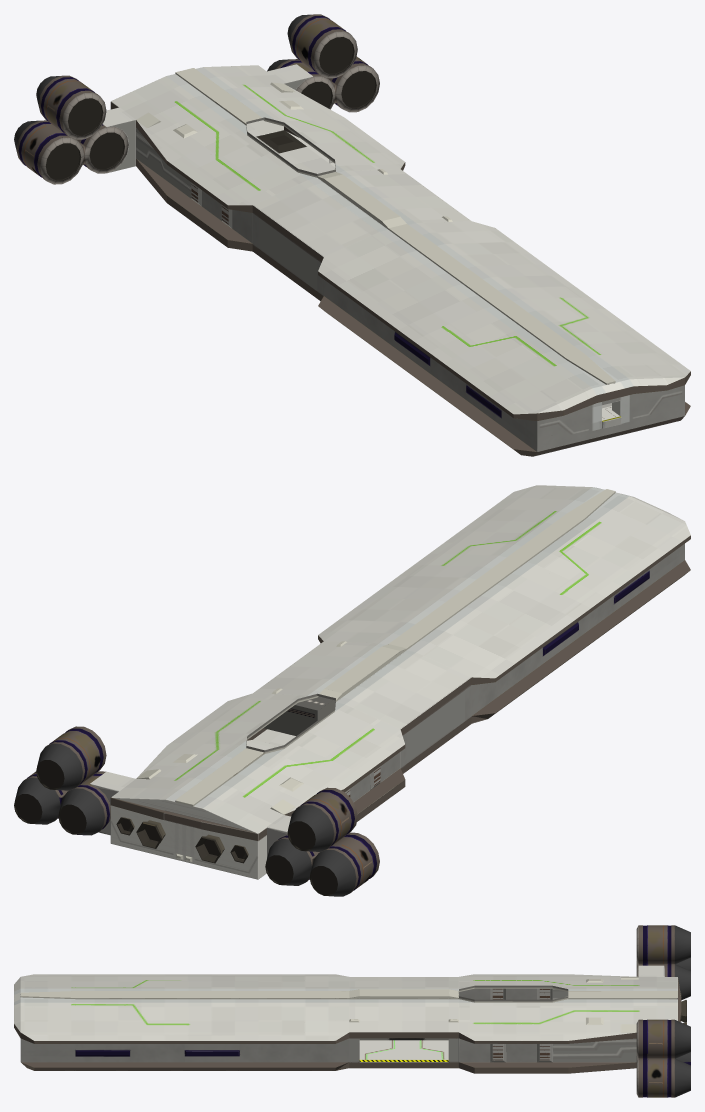
Rendered from SSCCapitalship1_Destruct.fbx.
3 views of the same model, one above another, from view 1: azimuth 30°, elevation 25°; view 2: azimuth 150°, elevation 25°; view 3: azimuth 270°, elevation 25° (orthographic). The views are drawn at different scales.
Visible parts, largest first — view 1: SSCCapitalship1_Front_Frag, SSCCapitalship1_Rear_Frag, SSCCapitalship1_Hanger_Frag, SSCCapitalship1_EngL_Frag, SSCCapitalship1_EngRB_Frag, SSCCapitalship1_EngRT_Frag; view 2: SSCCapitalship1_Front_Frag, SSCCapitalship1_Rear_Frag, SSCCapitalship1_Hanger_Frag, SSCCapitalship1_EngL_Frag, SSCCapitalship1_EngRB_Frag, SSCCapitalship1_EngRT_Frag; view 3: SSCCapitalship1_Front_Frag, SSCCapitalship1_Rear_Frag, SSCCapitalship1_Hanger_Frag, SSCCapitalship1_EngL_Frag, SSCCapitalship1_EngRT_Frag, SSCCapitalship1_EngRB_Frag.
Boxes of the visible parts, x1,y1,x2,y2 form: SSCCapitalship1_Front_Frag: [318, 221, 690, 456]; SSCCapitalship1_Rear_Frag: [103, 64, 405, 251]; SSCCapitalship1_Hanger_Frag: [252, 169, 471, 301]; SSCCapitalship1_EngL_Frag: [267, 14, 379, 112]; SSCCapitalship1_EngRB_Frag: [14, 120, 128, 184]; SSCCapitalship1_EngRT_Frag: [36, 75, 106, 139]; SSCCapitalship1_Front_Frag: [318, 485, 690, 723]; SSCCapitalship1_Rear_Frag: [90, 693, 405, 879]; SSCCapitalship1_Hanger_Frag: [252, 641, 471, 773]; SSCCapitalship1_EngL_Frag: [14, 726, 110, 835]; SSCCapitalship1_EngRB_Frag: [265, 832, 379, 896]; SSCCapitalship1_EngRT_Frag: [287, 787, 357, 851]; SSCCapitalship1_Front_Frag: [14, 974, 349, 1070]; SSCCapitalship1_Rear_Frag: [459, 965, 686, 1073]; SSCCapitalship1_Hanger_Frag: [349, 977, 458, 1068]; SSCCapitalship1_EngL_Frag: [636, 1019, 690, 1097]; SSCCapitalship1_EngRT_Frag: [636, 925, 690, 964]; SSCCapitalship1_EngRB_Frag: [636, 957, 690, 1000].
Size of the model in its own units: 46000 by 11095 by 102970.
